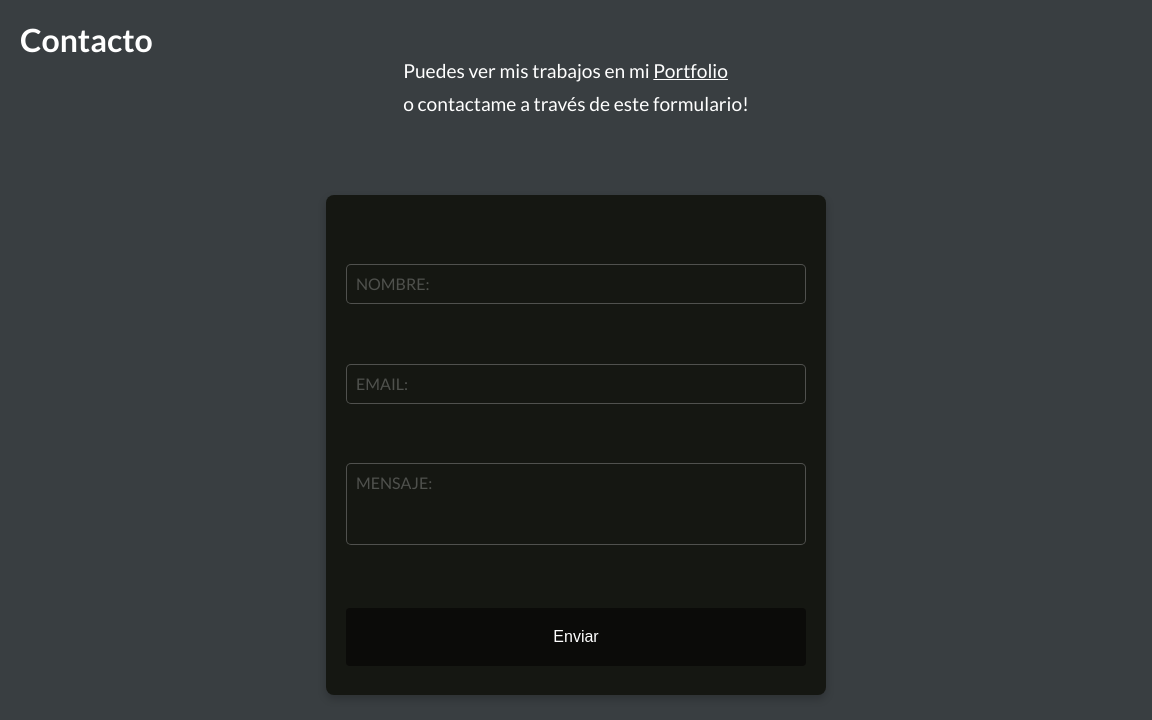
Test: Contact component › updates the name state when the form is submitted
Type "John Doe" into the field labelled "Nombre:".
click(576, 284); type("John Doe")  # box [346,264,806,304]
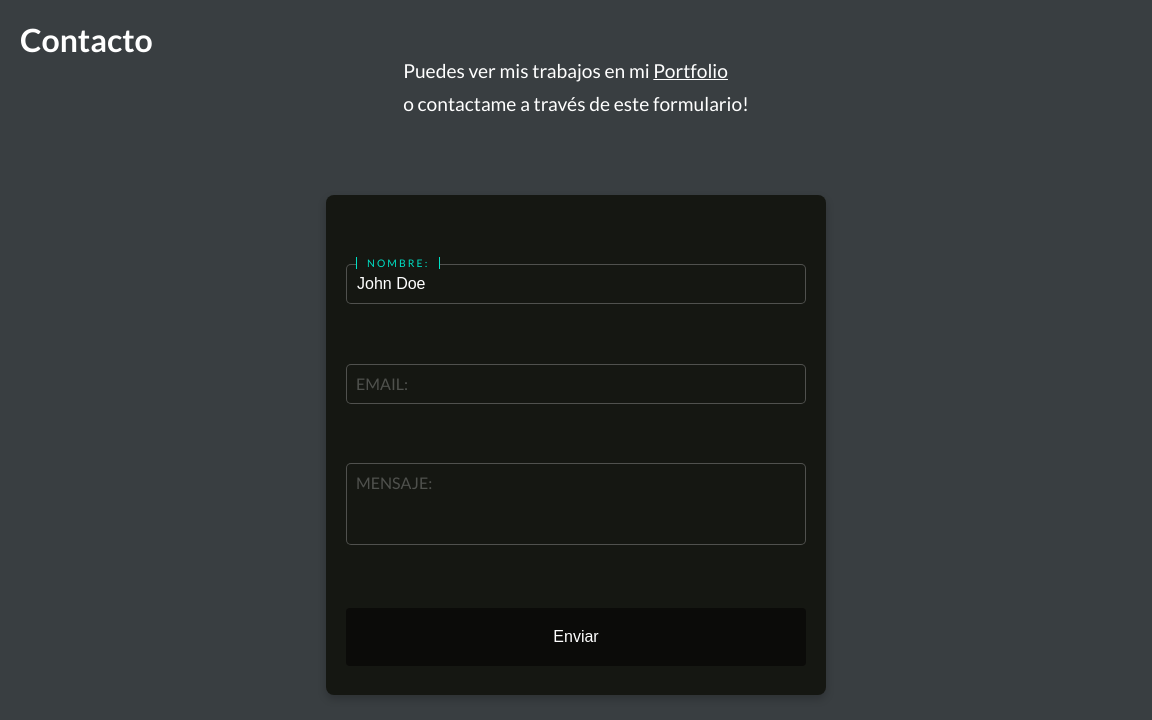
Submit the form from the button "Enviar", box [346,608,806,666]
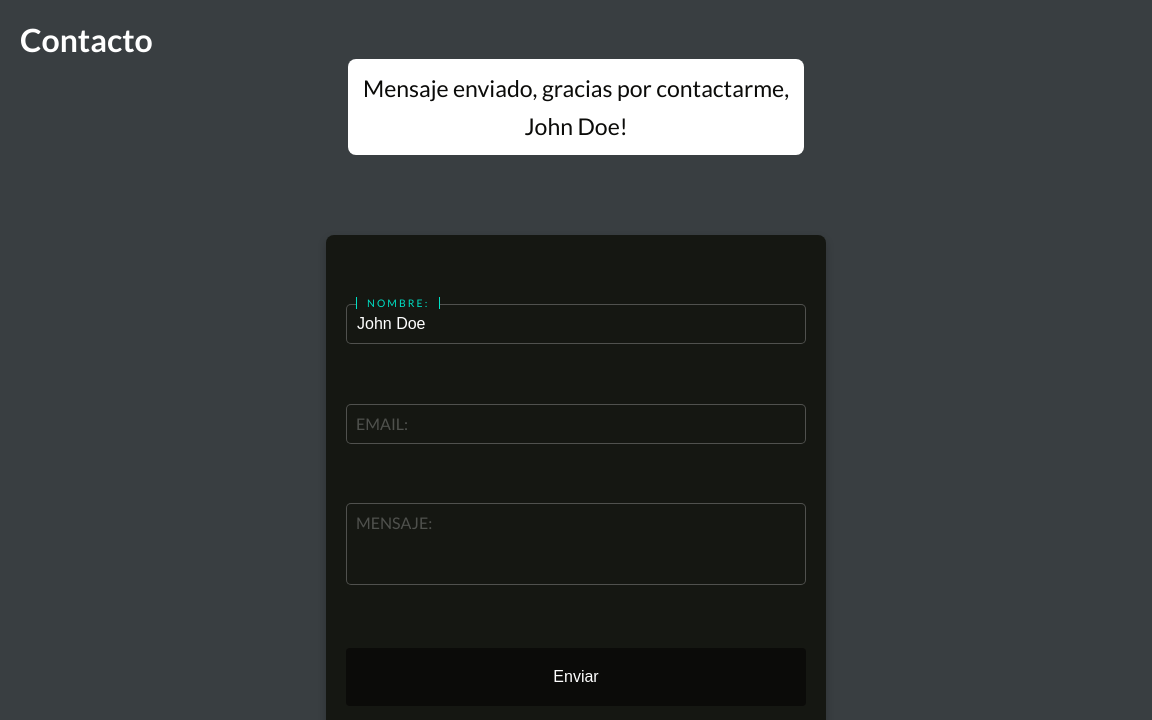
expect the text "Mensaje enviado, gracias por contactarme," is shown: met, box [363,74,789,102]
expect the text "John Doe!" is shown: met, box [524,112,628,140]
